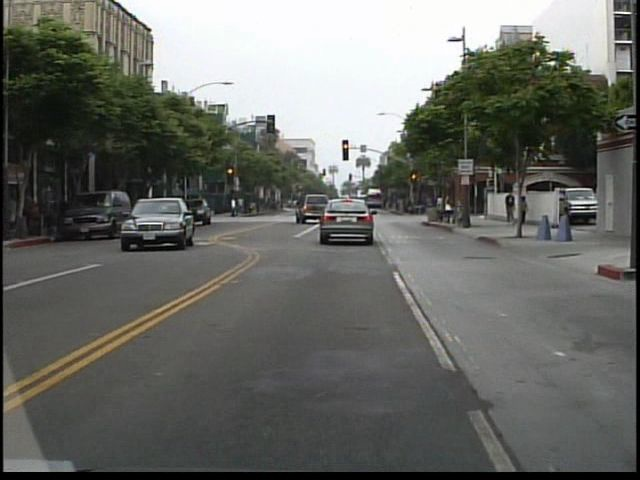person: (433, 189, 452, 225), (504, 186, 518, 227), (520, 189, 533, 226), (230, 193, 240, 219)
